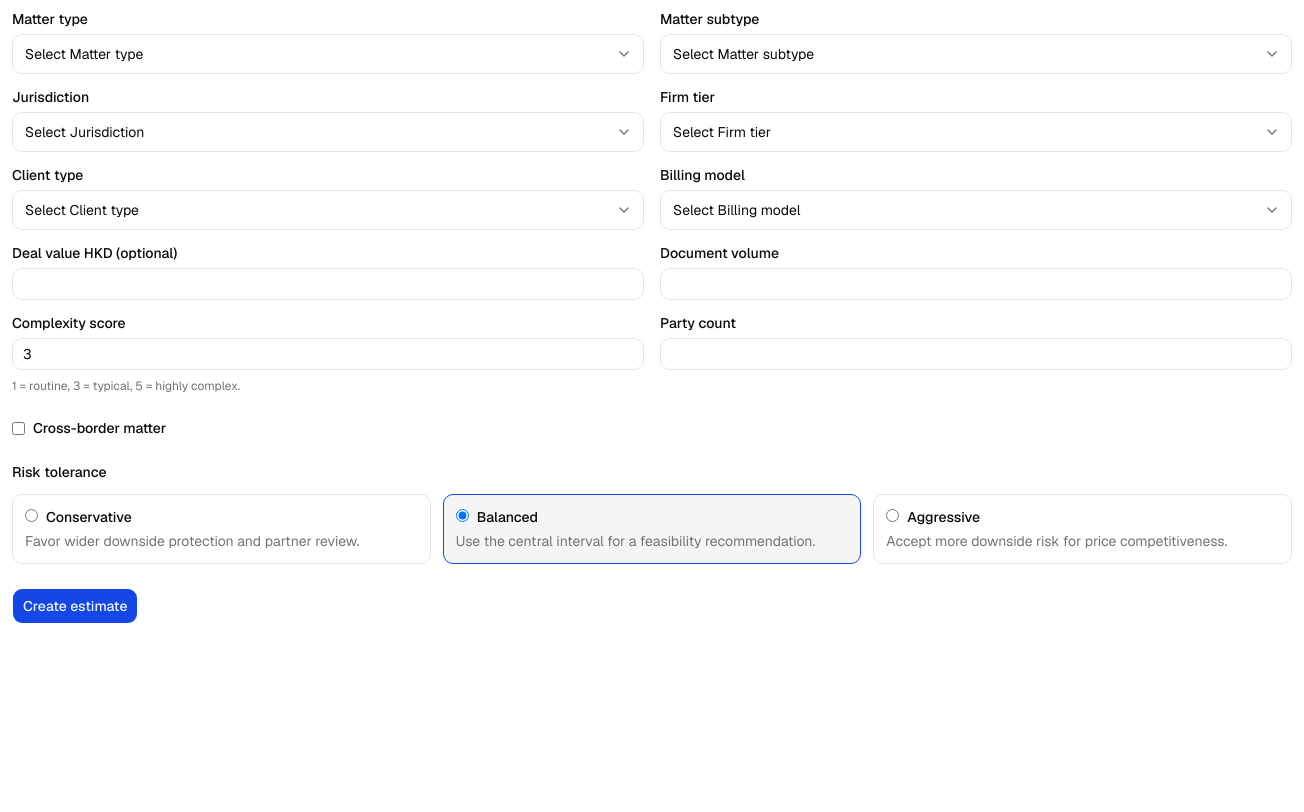
Test: matter intake workflow › shows required field errors
Click the button "Create estimate".
click(75, 606)  # box left=12, top=588, right=138, bottom=624
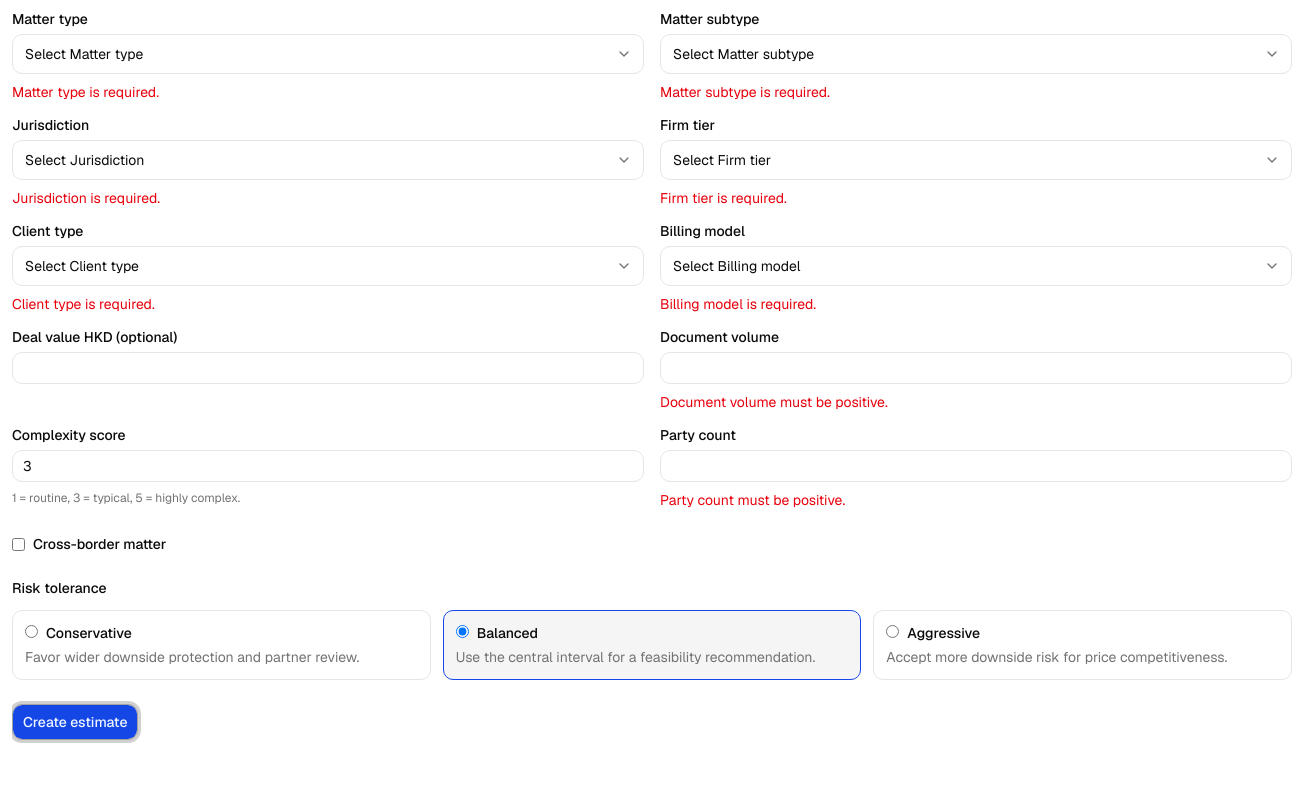
Expected: the text "Matter type is required." is shown, left=12, top=83, right=159, bottom=101
Expected: the text "Document volume must be positive." is shown, left=660, top=393, right=888, bottom=411
Expected: the text "Party count must be positive." is shown, left=660, top=491, right=845, bottom=509
